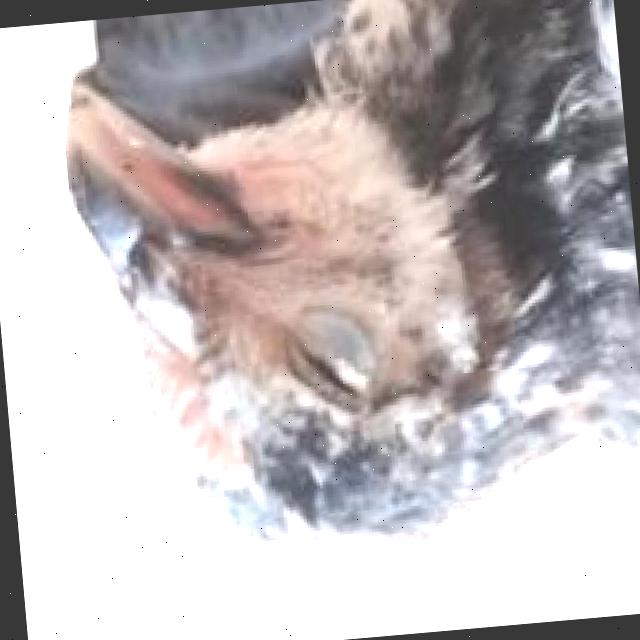Coryza: (256, 284, 431, 450)
